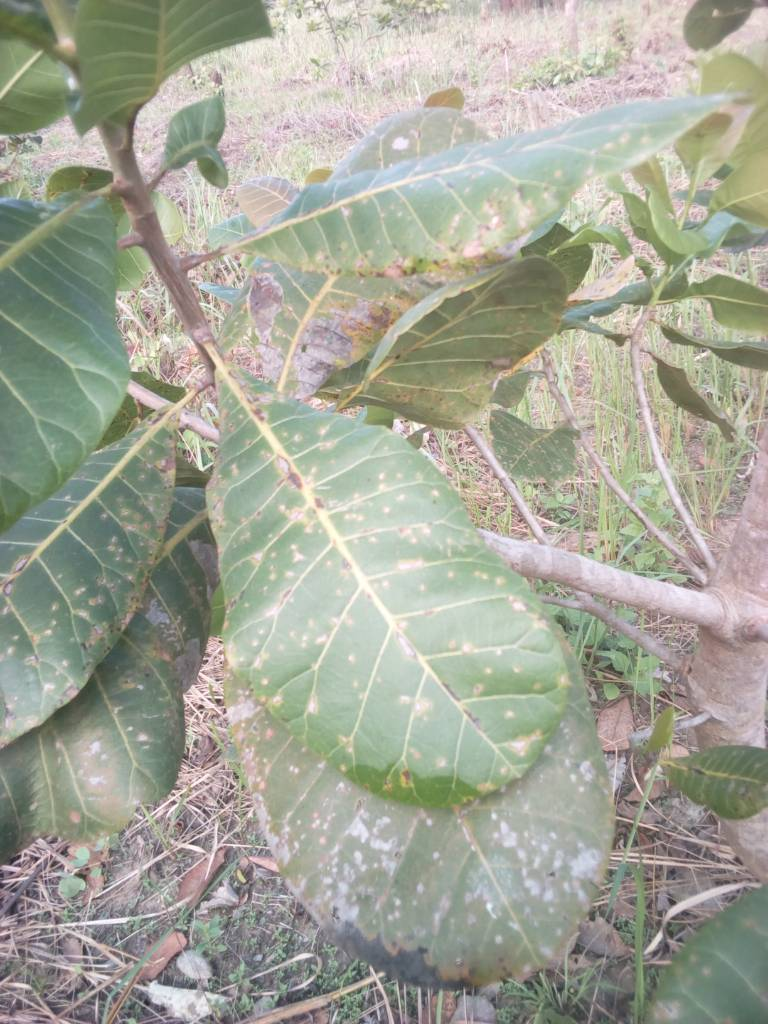Alternariose: (224, 396, 557, 803), (238, 91, 732, 274), (1, 411, 175, 733)
